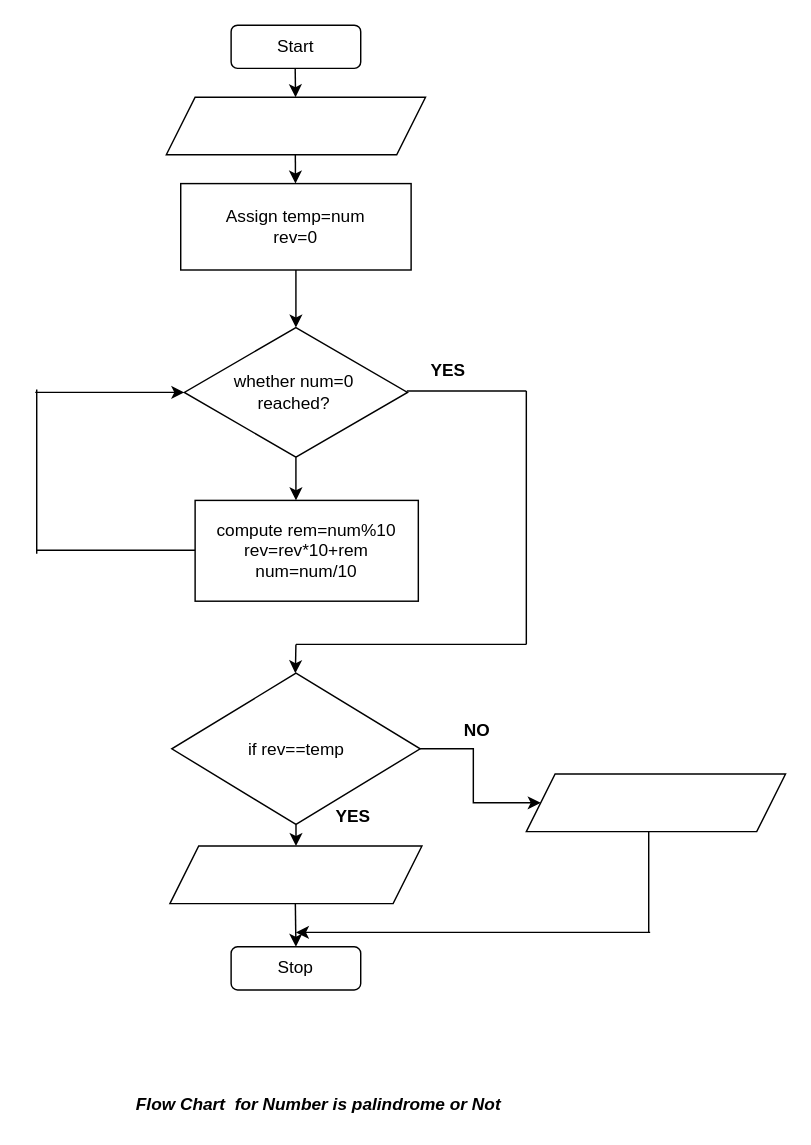
Some shapes in this 811 by 1145 pixel diagram are drawn without their labels. Here are the shapes that lost their labels. From the top down, the centre of each, then its label:
At point 295,125: "Read Number,num".
At point 655,802: "Print num is not Palindrome".
At point 295,874: "Print num is Palindrome".
